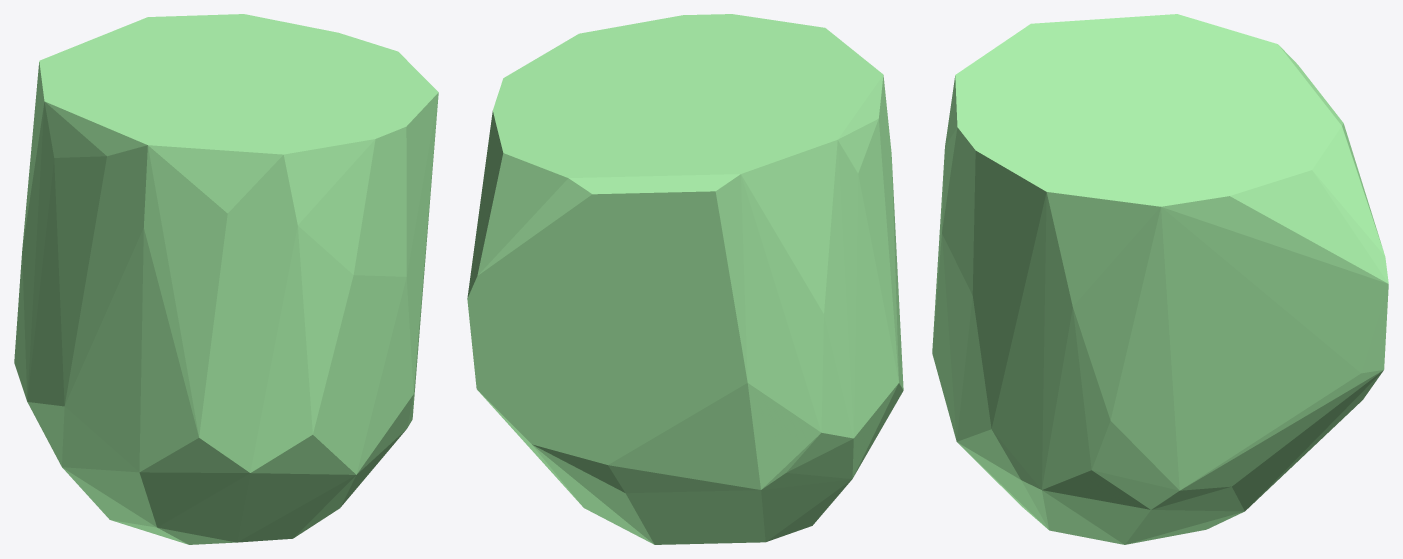
The model's file is dvkr_robot_L_link5_respondable_coll_2.dae.
3 renders of one model, left to right at view 1: azimuth 30°, elevation 25°; view 2: azimuth 150°, elevation 25°; view 3: azimuth 270°, elevation 25°, orthographic. The views are drawn at different scales.
Visible parts, largest first — view 1: Node_0000023514CD64F0; view 2: Node_0000023514CD64F0; view 3: Node_0000023514CD64F0.
Boxes of the visible parts, x1,y1,x2,y2 form: Node_0000023514CD64F0: (14,14,438,544); Node_0000023514CD64F0: (467,14,903,544); Node_0000023514CD64F0: (932,14,1388,544).
Bounding box in the file's own units: 0.0997 × 0.1175 × 0.1099.
